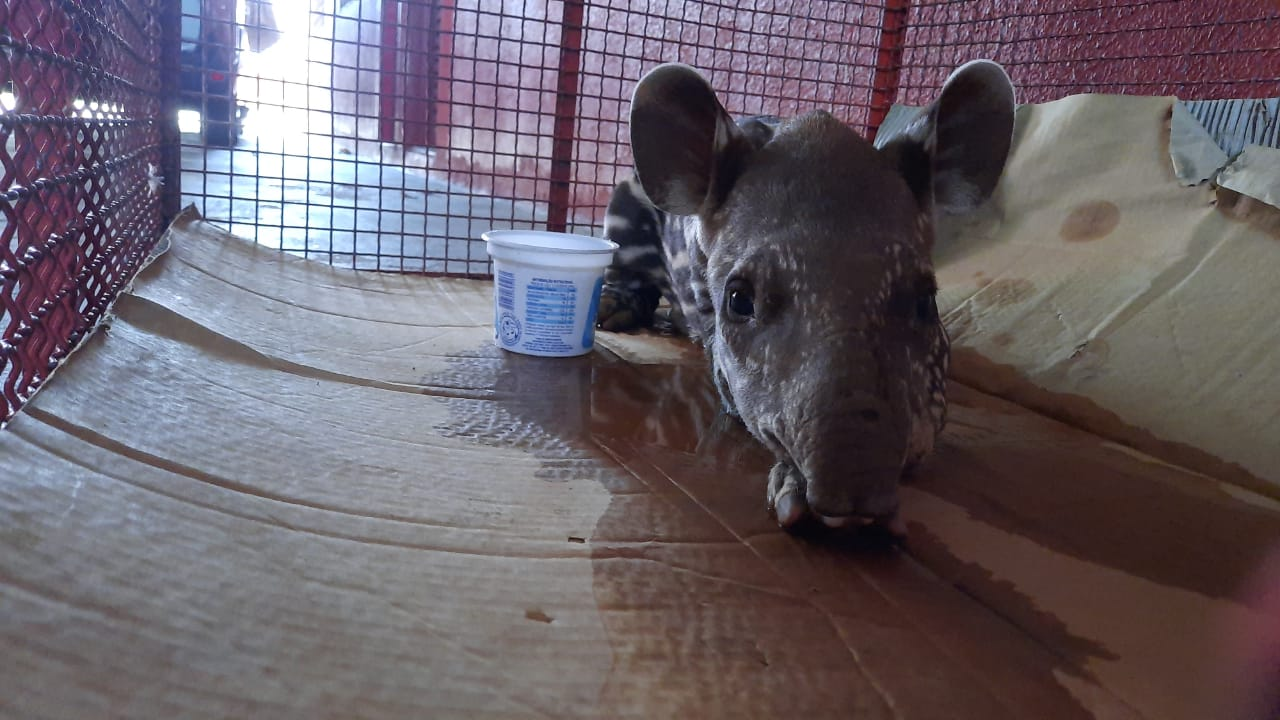Anta: (611, 55, 1040, 552)
